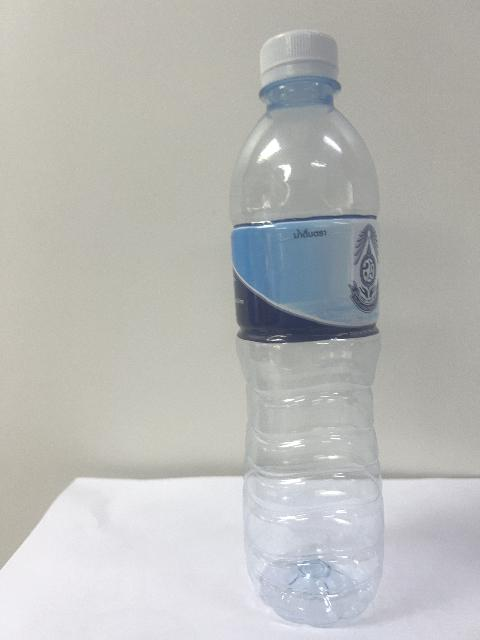bottle: (231, 30, 383, 626)
